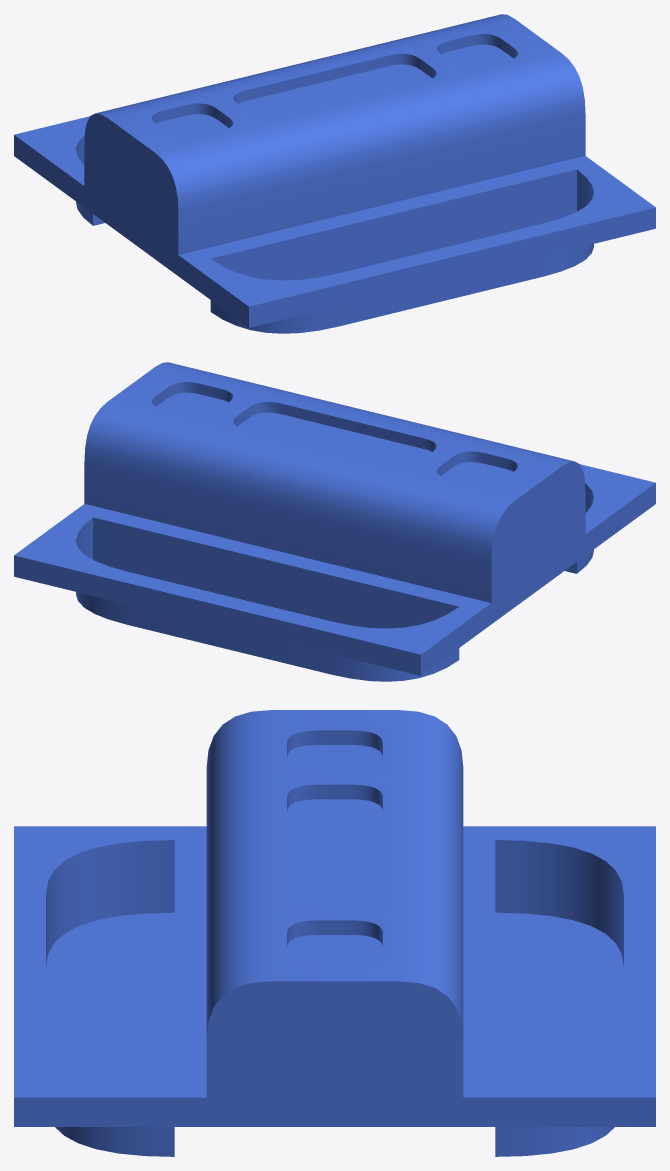
Rendered from Ceiling_2x2m_D.FBX.
The picture shows the model from 3 angles, top to bottom: view 1: azimuth 30°, elevation 25°; view 2: azimuth 150°, elevation 25°; view 3: azimuth 270°, elevation 25°; orthographic projection. The views are drawn at different scales.
Visible parts, largest first — view 1: Ceiling_2x2m_D; view 2: Ceiling_2x2m_D; view 3: Ceiling_2x2m_D.
Part boxes in pixels (x1,y1,x2,y2): Ceiling_2x2m_D: [14, 14, 655, 333]; Ceiling_2x2m_D: [14, 362, 655, 681]; Ceiling_2x2m_D: [14, 710, 655, 1156].
Bounding box in the file's own units: 200 × 65 × 200.
